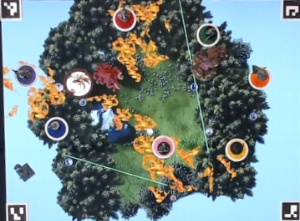blue: (44, 113, 69, 142)
green: (194, 21, 221, 47)
orange: (246, 64, 273, 88)
pink: (150, 133, 175, 158)
red: (111, 5, 138, 31)
violet: (13, 62, 37, 87)
yellow: (223, 136, 249, 161)
